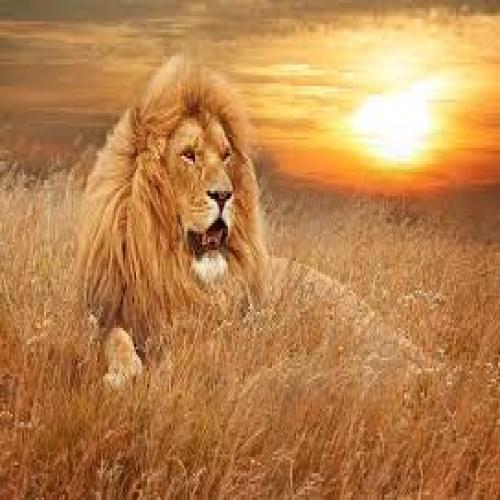lion-endangered: (76, 54, 423, 389)
